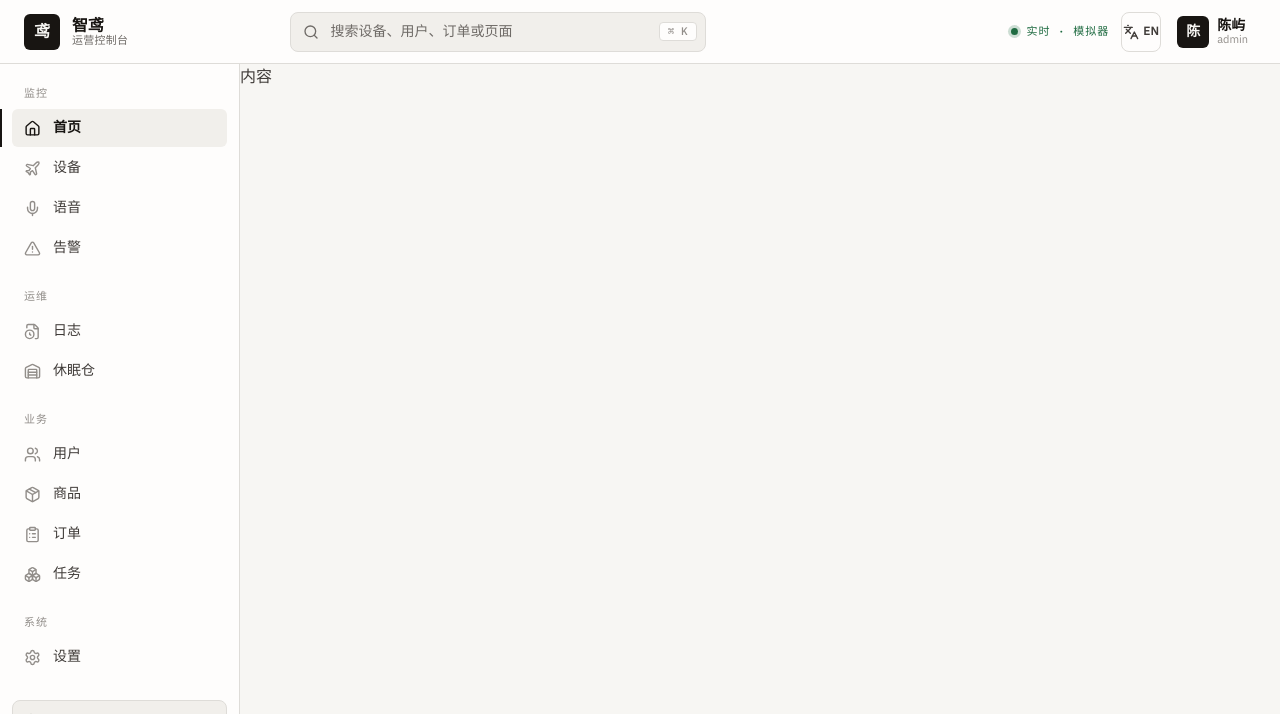
AppShell command palette › opens from the search button and navigates to the chosen page
Step 1. Click the button "搜索设备、用户、订单或页面 ⌘ K" → (498, 32), box [290, 12, 706, 52]
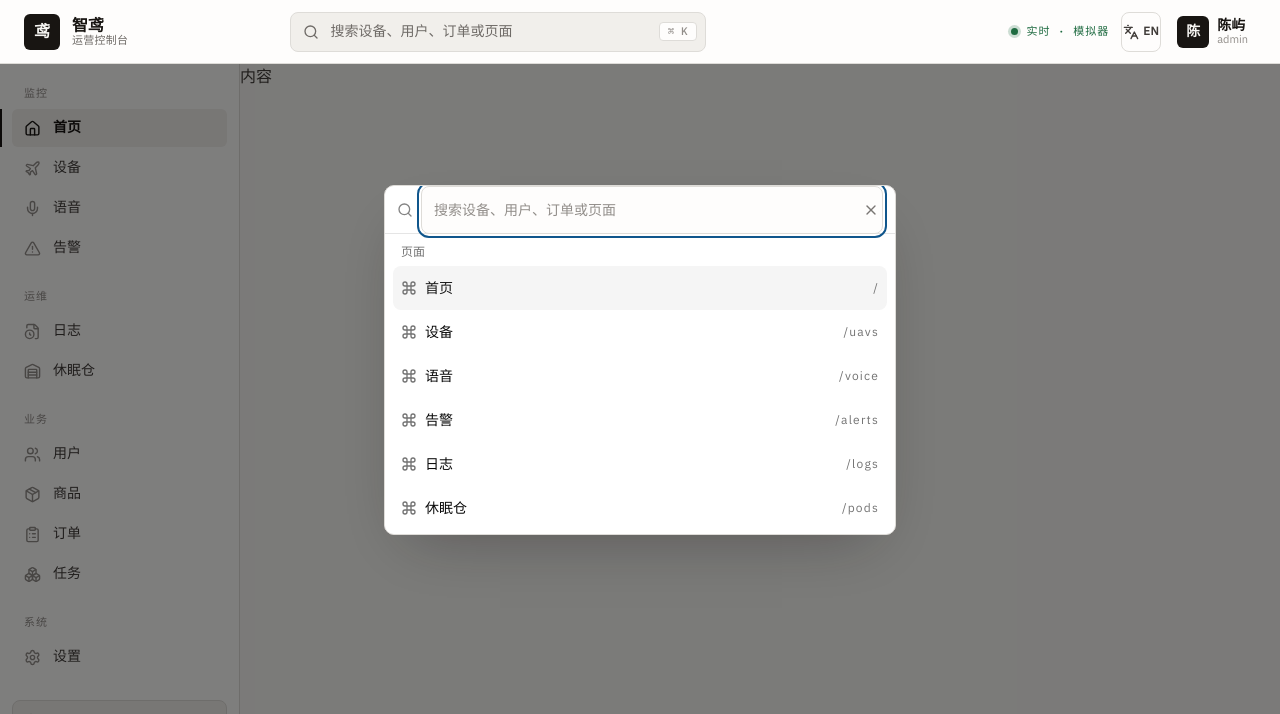
Step 2. Click the option "告警 /alerts" → (857, 420), box [401, 411, 879, 429]
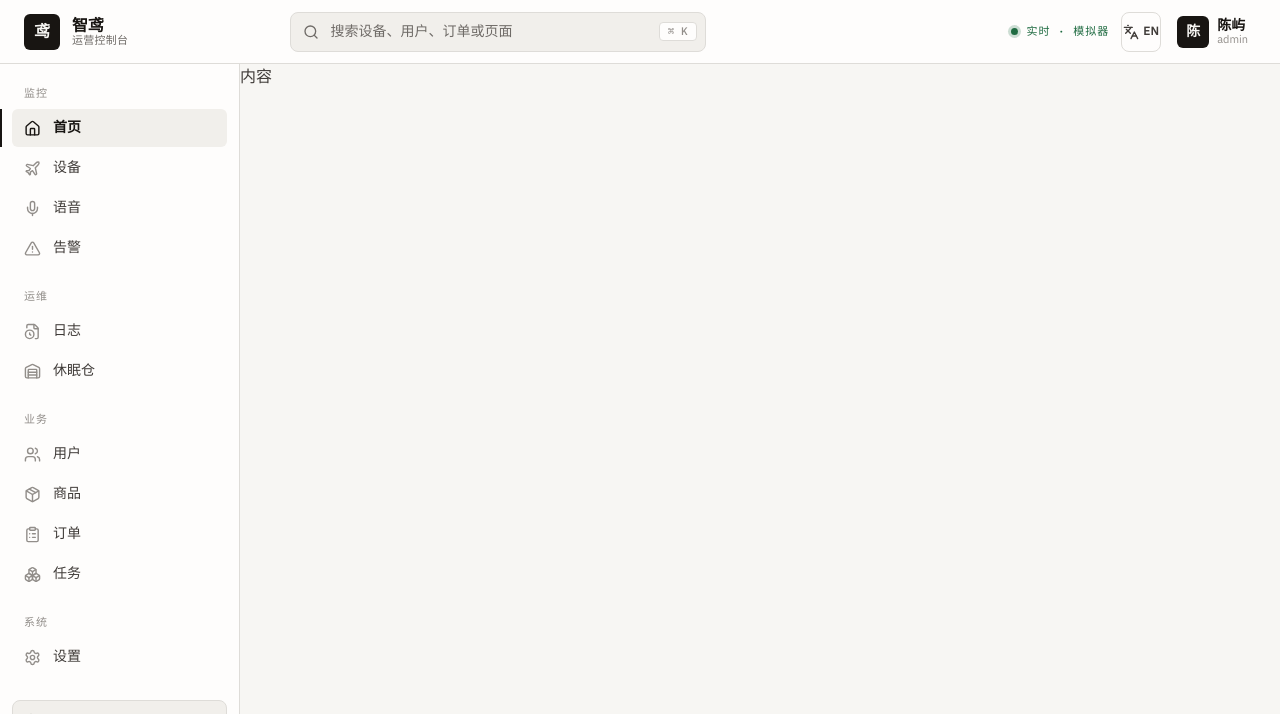
Now the dialog is gone
